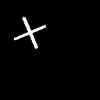single_crochet: (14, 17, 44, 47)
